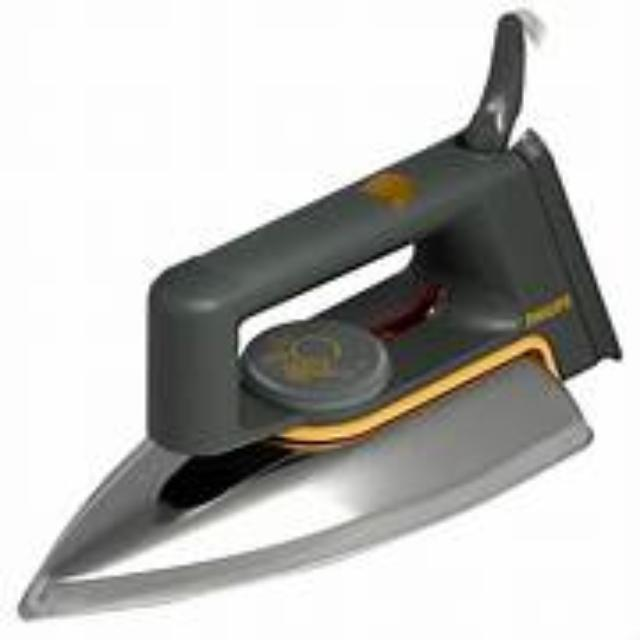Clothes-Iron: (13, 68, 623, 626)
